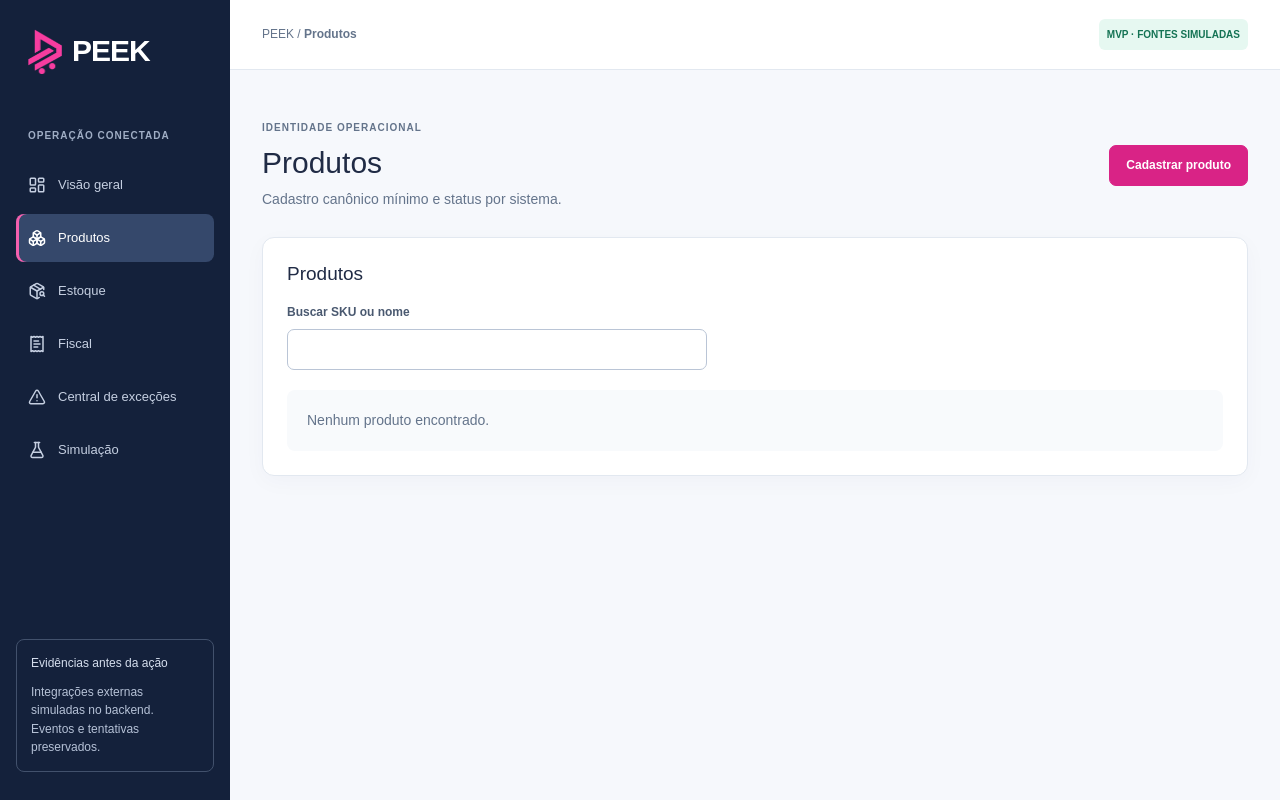
Test: Products and mappings › creates through API and surfaces conflicts without silent linking
Click the button "Cadastrar produto" at (1179, 165), box [1109,145,1248,186]
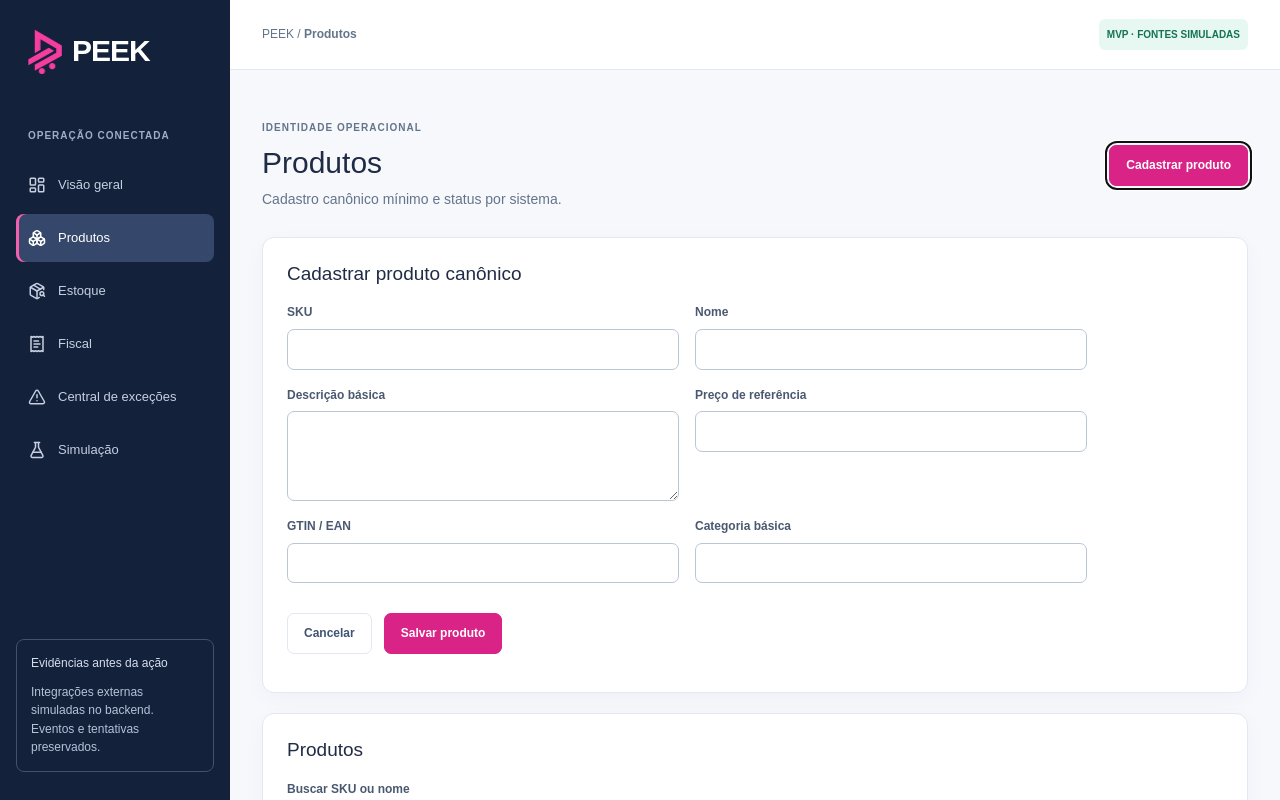
Type "NEW" into the field labelled "SKU" at (483, 349), box [287,329,679,370]
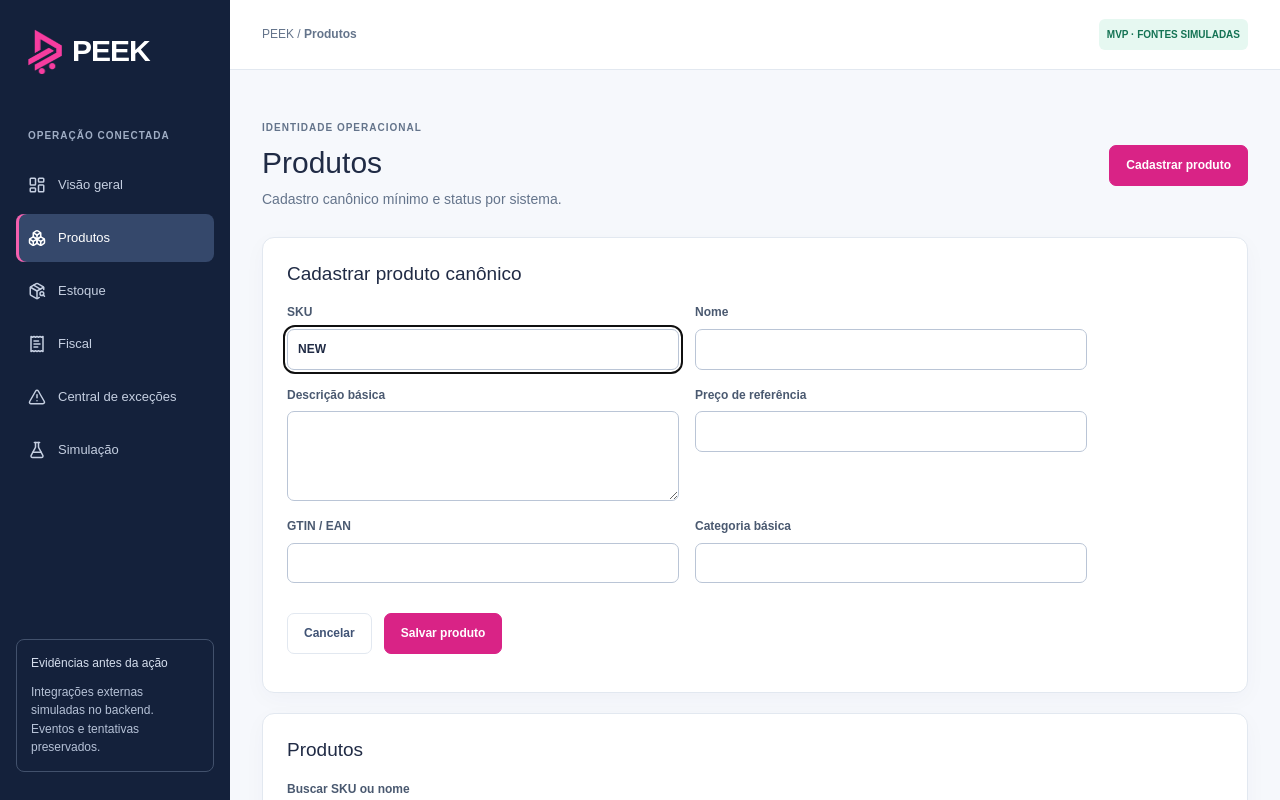
Type "Novo" into the field labelled "Nome" at (891, 349), box [695,329,1087,370]
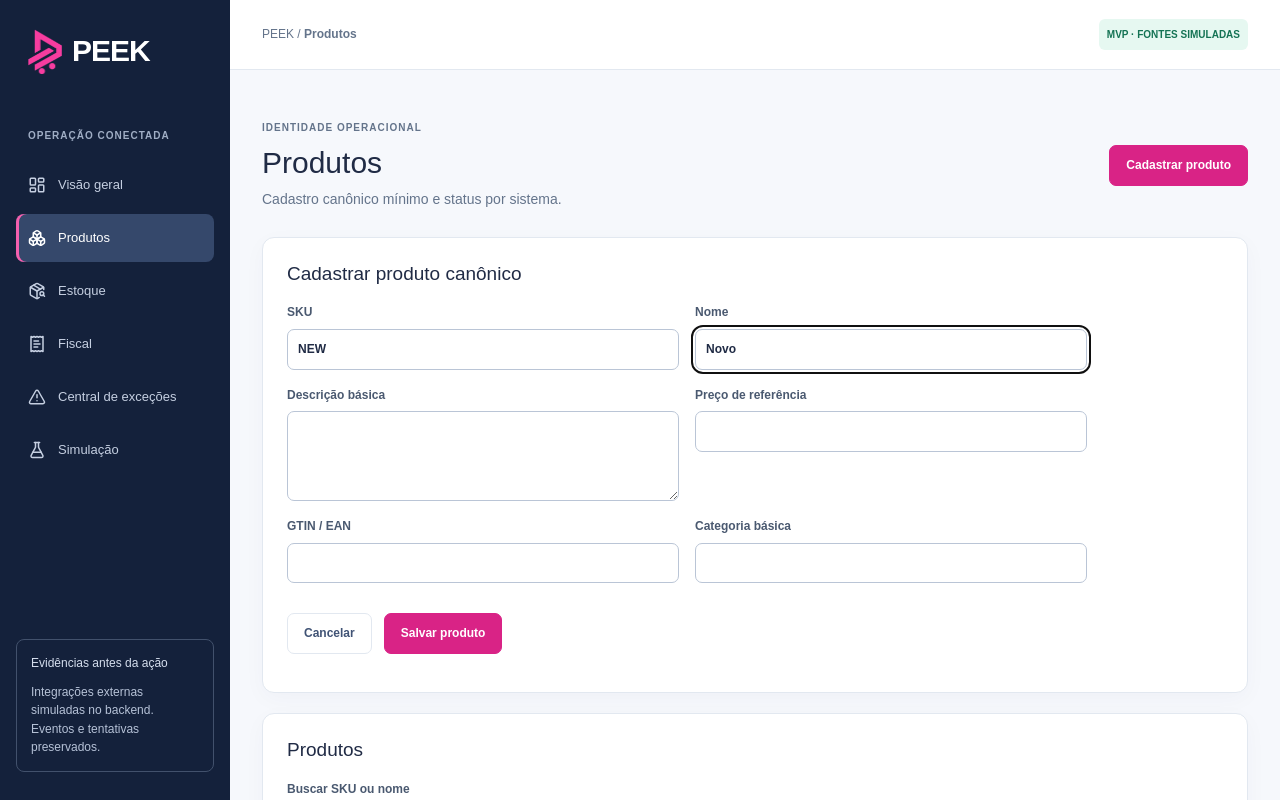
Click the button "Salvar produto" at (443, 634), box [384,613,502,654]
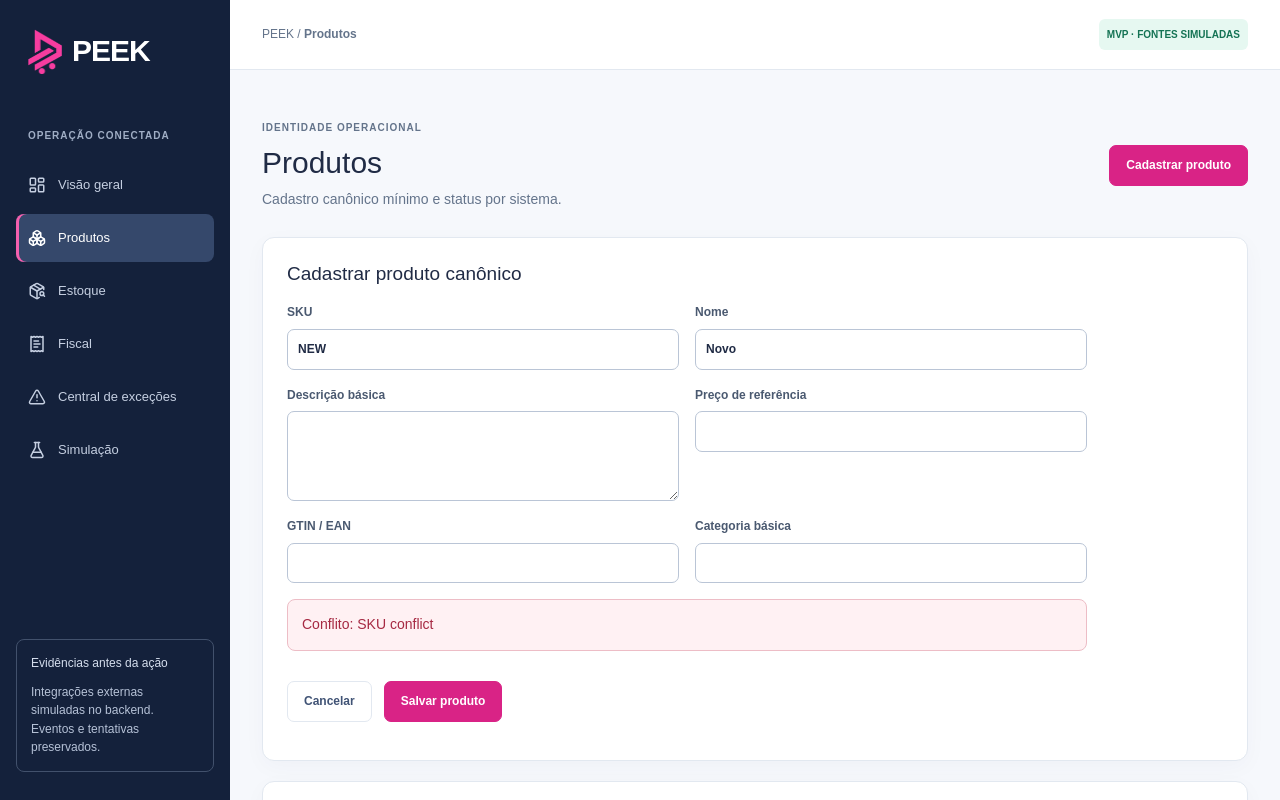
Result: the message reads "Conflito: SKU conflict" at [302,616,434,632]
